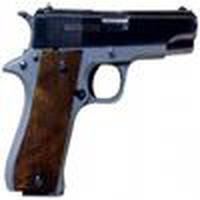gun: (2, 5, 190, 200)
